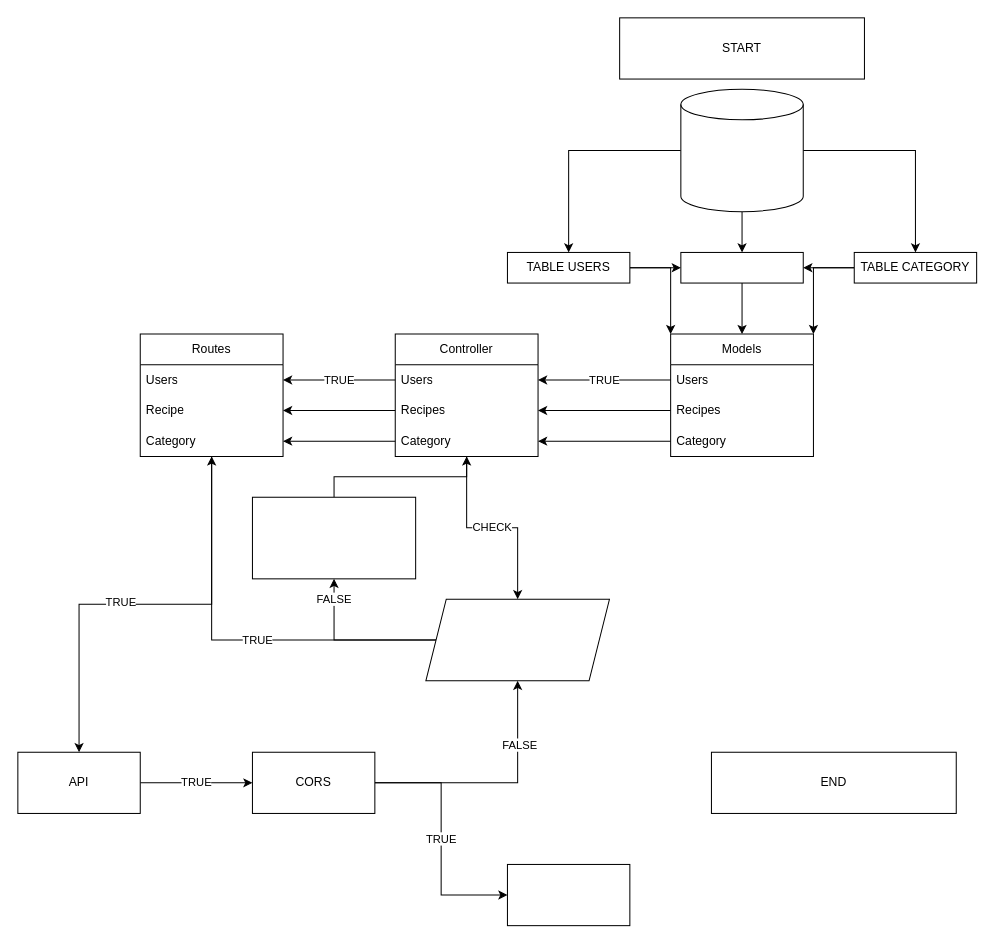
Image size: 995x944. Some labels were removed from this diagram. Each missing label, with the centre of its shape:
"DATABASE" belongs at (x=741, y=150).
"ERROR" belongs at (x=333, y=537).
"FRONT END" belongs at (x=568, y=894).
"MIDDLEWARE" belongs at (x=517, y=639).
"TABLE RECIPES" belongs at (x=741, y=267).
